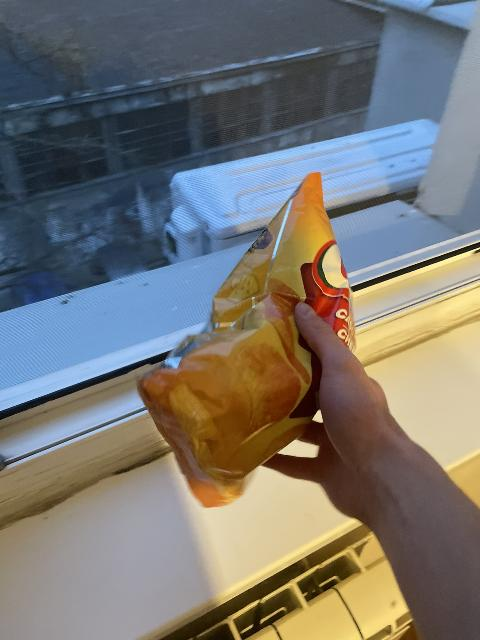Chio Cascaval 125g: (136, 171, 354, 508)
